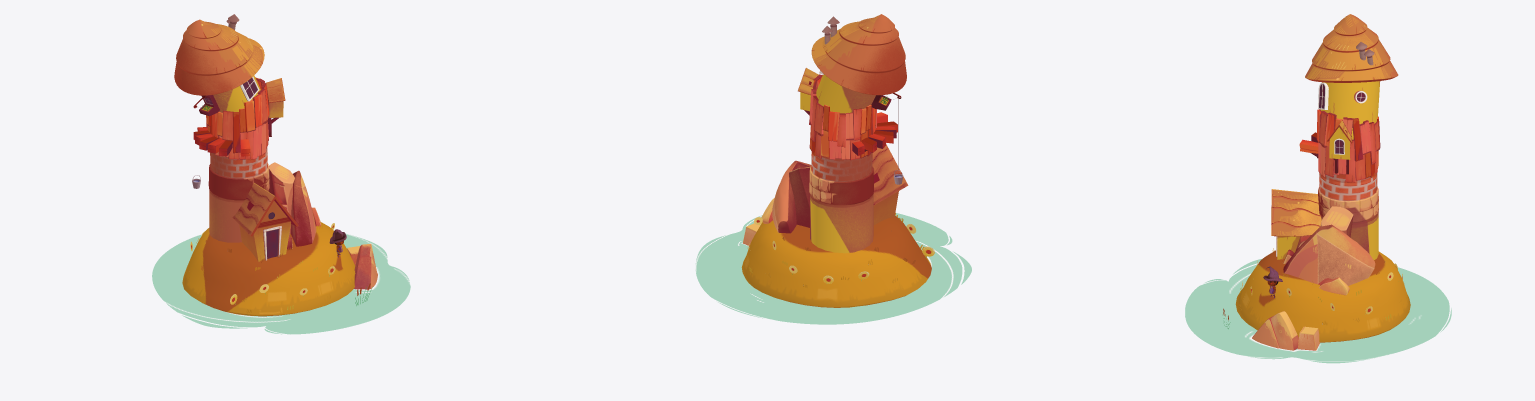
3 renders of one model, left to right at view 1: azimuth 30°, elevation 25°; view 2: azimuth 150°, elevation 25°; view 3: azimuth 270°, elevation 25°, orthographic. The views are drawn at different scales.
Visible parts, largest first — view 1: Island1, Sea, Roof1, Tower2, Rock4, Roof2, Walls, Rock, Rock10, Door; view 2: Island1, Sea, Tower2, Roof1, Rock4, Roof2, Rock, Walls; view 3: Sea, Island1, Tower2, Roof1, Rock4, Roof2, Rock10, Walls (×2), Rock, Rock5, Rock6, Plank8.
Part boxes in pixels (bbox=[...]): Island1: bbox=[182, 222, 355, 316]; Sea: bbox=[152, 233, 410, 334]; Roof1: bbox=[174, 19, 264, 95]; Tower2: bbox=[208, 75, 269, 242]; Rock4: bbox=[290, 170, 316, 246]; Roof2: bbox=[232, 183, 298, 236]; Walls: bbox=[239, 201, 290, 261]; Rock: bbox=[269, 162, 294, 249]; Rock10: bbox=[354, 243, 377, 289]; Door: bbox=[263, 226, 281, 260]; Island1: bbox=[741, 216, 931, 307]; Sea: bbox=[695, 213, 971, 324]; Tower2: bbox=[809, 74, 875, 253]; Roof1: bbox=[811, 14, 906, 95]; Rock4: bbox=[772, 160, 811, 233]; Roof2: bbox=[872, 144, 908, 205]; Rock: bbox=[789, 166, 810, 227]; Walls: bbox=[873, 191, 898, 224]; Sea: bbox=[1185, 258, 1451, 363]; Island1: bbox=[1235, 250, 1410, 342]; Tower2: bbox=[1318, 81, 1380, 259]; Roof1: bbox=[1305, 14, 1398, 82]; Rock4: bbox=[1283, 224, 1375, 285]; Roof2: bbox=[1271, 189, 1321, 236]; Rock10: bbox=[1252, 311, 1298, 350]; Walls (×2): bbox=[1277, 126, 1350, 259]; Rock: bbox=[1283, 206, 1353, 263]; Rock5: bbox=[1298, 326, 1320, 350]; Rock6: bbox=[1319, 277, 1349, 295]; Plank8: bbox=[1352, 118, 1363, 161].
Size of the model in its own units: 14.57 by 11.64 by 15.16.
46 materials, 45 textured.
